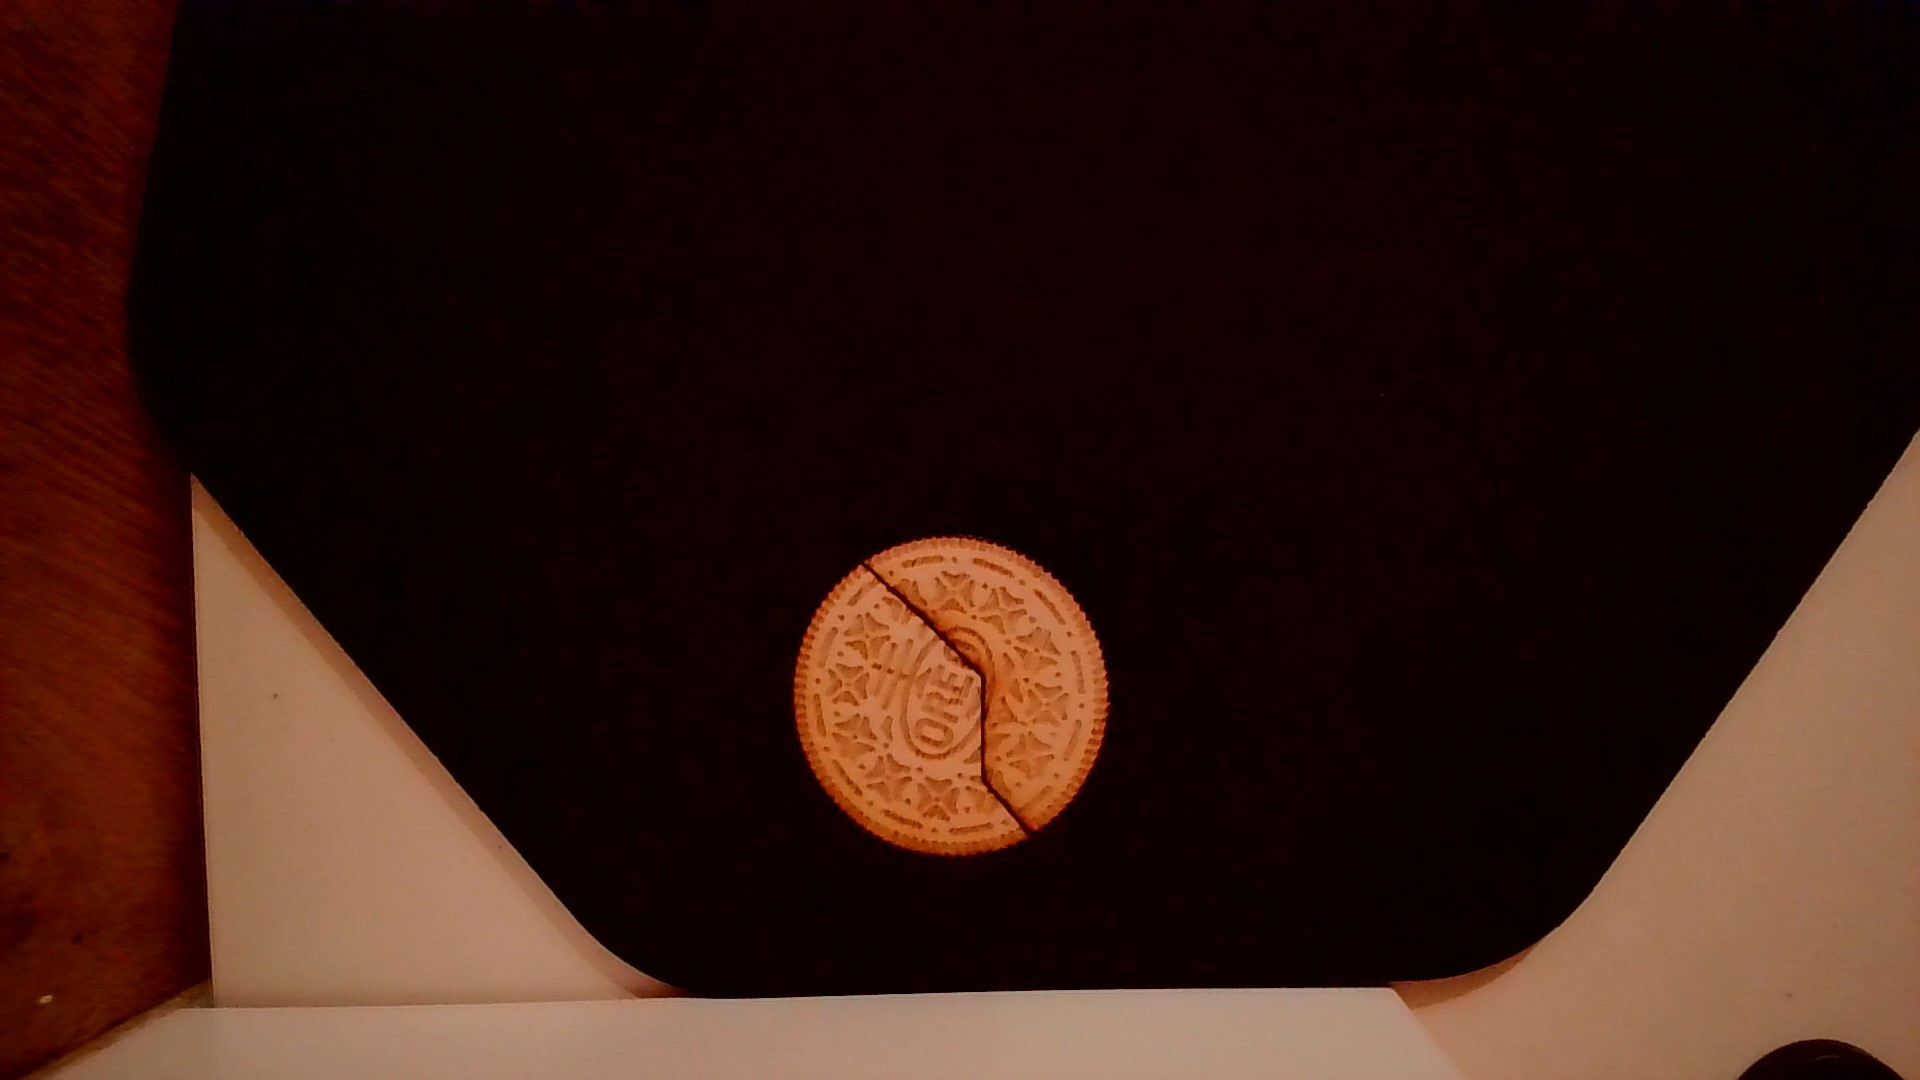Fissure: (845, 554, 1038, 845)
Oréo: (785, 522, 1116, 862)
